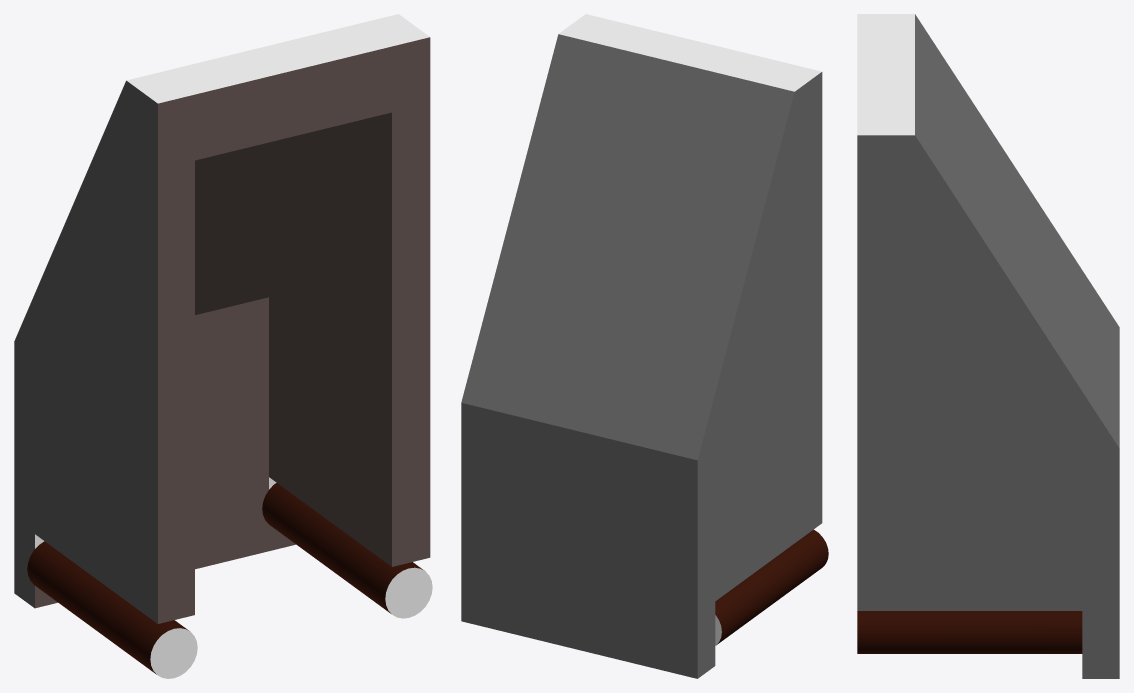
File: Mine.dae
3 views of the same model, side by side, from view 1: azimuth 30°, elevation 25°; view 2: azimuth 150°, elevation 25°; view 3: azimuth 270°, elevation 25° (orthographic). The views are drawn at different scales.
Parts seen in each view (by area): view 1: SketchUp (×7); view 2: SketchUp (×3); view 3: SketchUp (×3).
Boxes of the visible parts, x1=… form: SketchUp (×7): x1=14, y1=14, x2=432, y2=678; SketchUp (×3): x1=461, y1=14, x2=828, y2=678; SketchUp (×3): x1=857, y1=14, x2=1119, y2=678.
Bounding box in the file's own units: 57.21 × 50.4 × 115.
